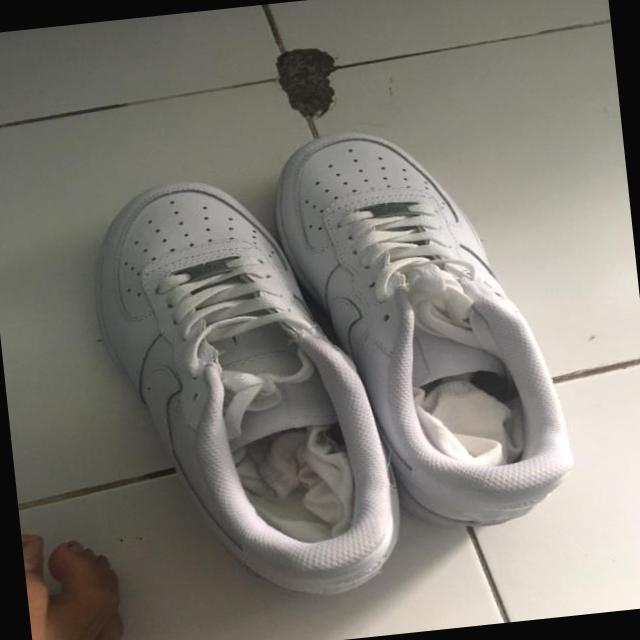nike_fake_airforce: (72, 156, 410, 618), (256, 111, 581, 546)
